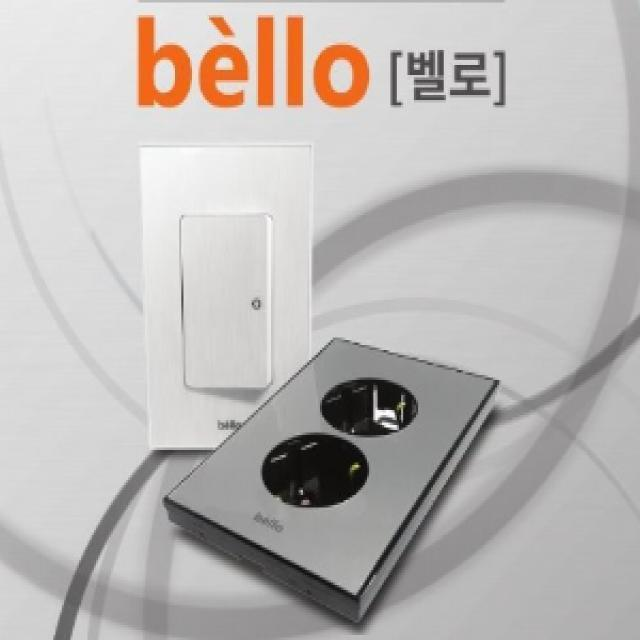typeb: (157, 365, 512, 597)
